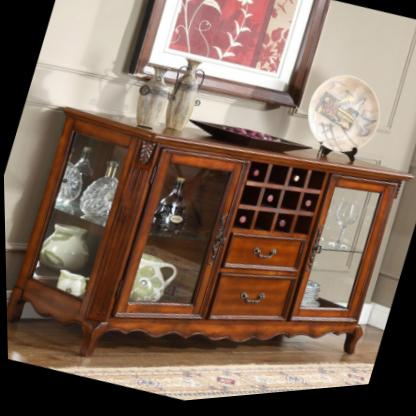Cupboard: (5, 110, 411, 362)
